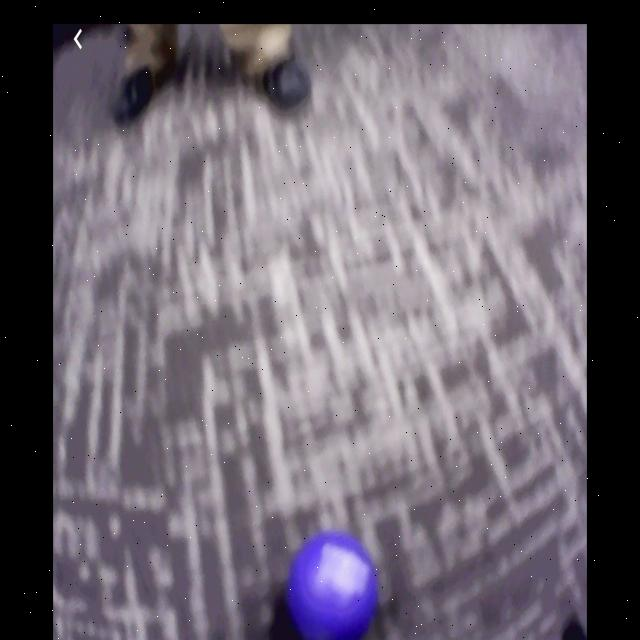ball: (287, 531, 376, 640)
